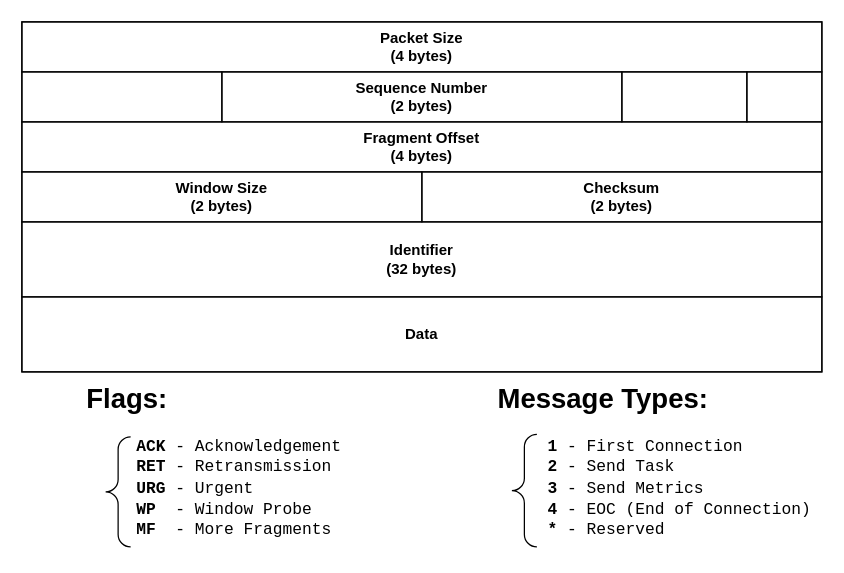
This 844x573 diagram has some shape labels left out. The centre of each missing label's shape, as x and y in pixels:
"Flags (5 bits)" belongs at pixel 684 96.
"NMS NetTask Version (1 byte)" belongs at pixel 121 96.
"Type (3 bits)" belongs at pixel 784 96.
